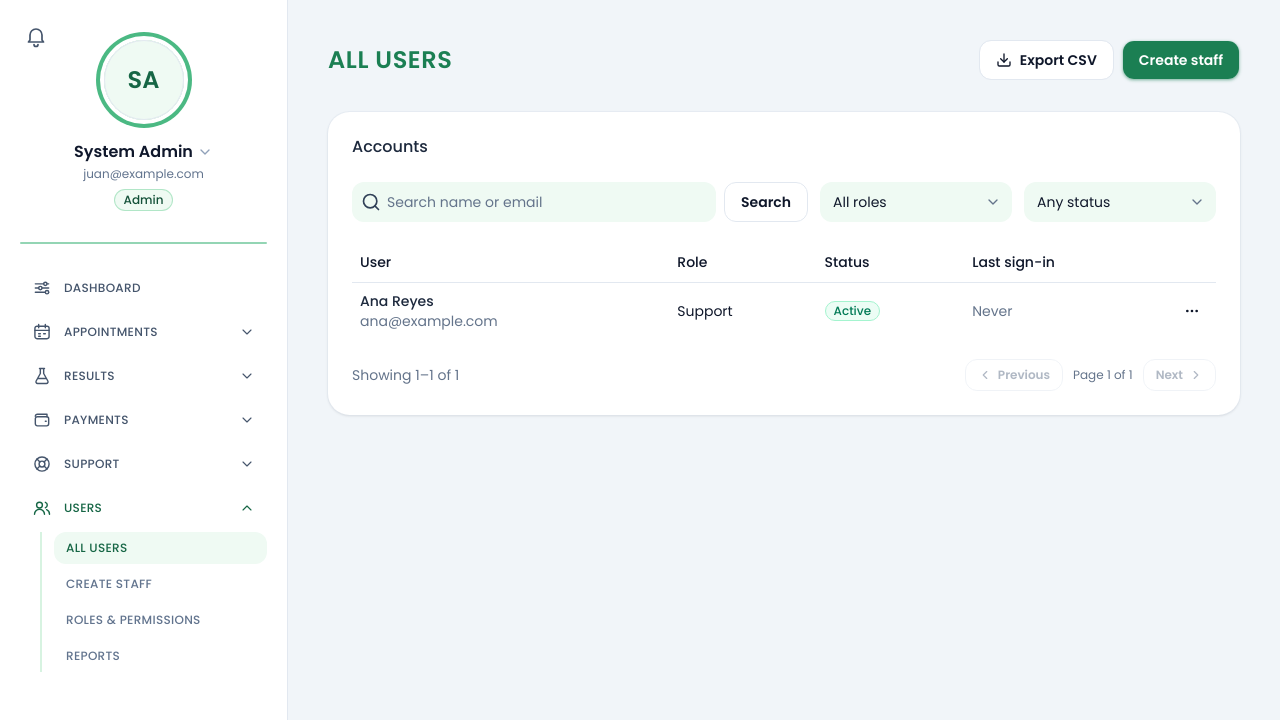
Test case: All Users admin tools › exports with the filters and edits a user, showing a taken email inline
The width and height of the screenshot is (1280, 720).
Click the button named "Actions for Ana Reyes". click: (1192, 310)
box: [1176,294,1208,326]
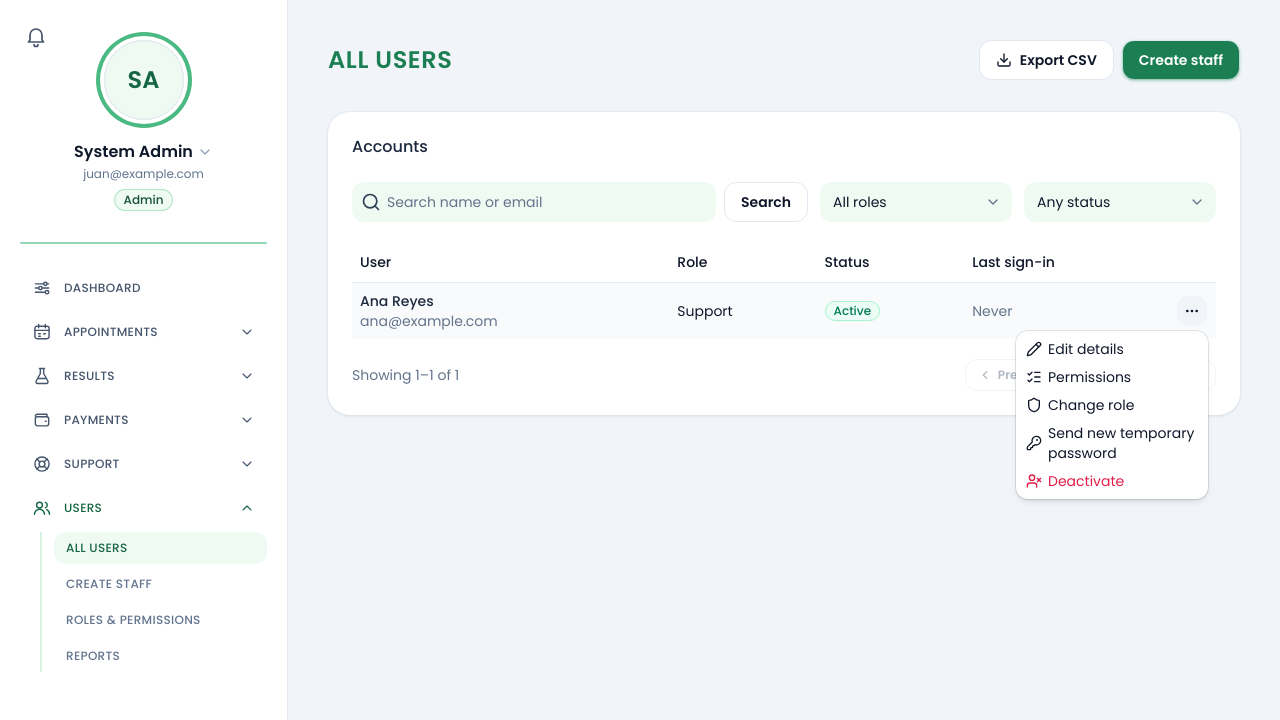
Click the menu item "Edit details". click: (1075, 349)
box: [1026,339,1124,359]
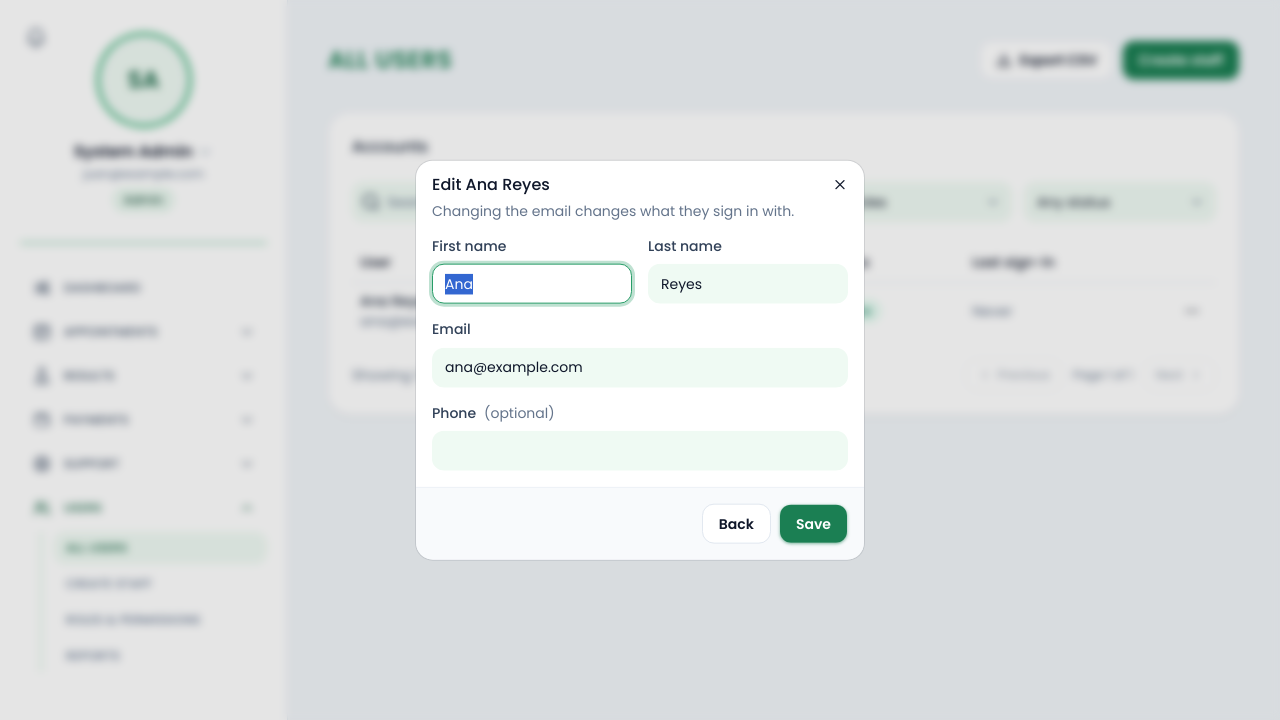
Replace the text in the field labelled "Email" with "taken@example.com". click: (640, 367)
box: [432,347,848,387]
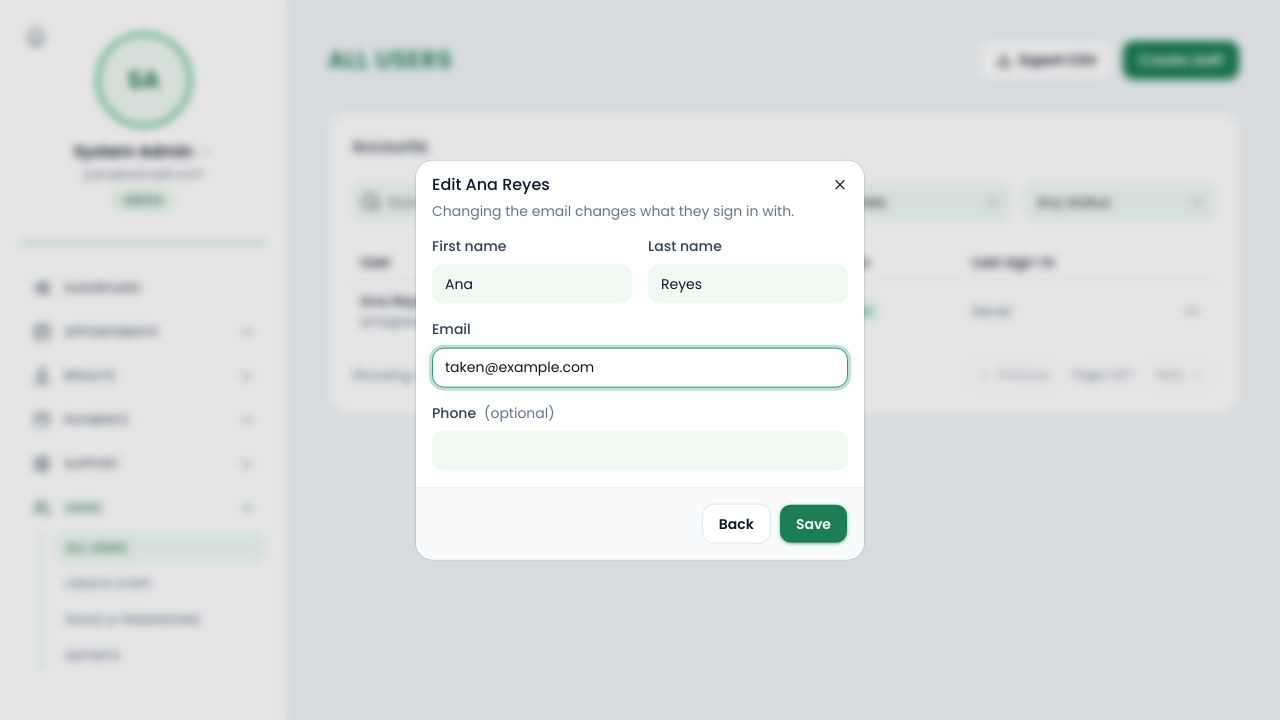
Click the button "Save". click: (814, 523)
box: [779,503,848,543]
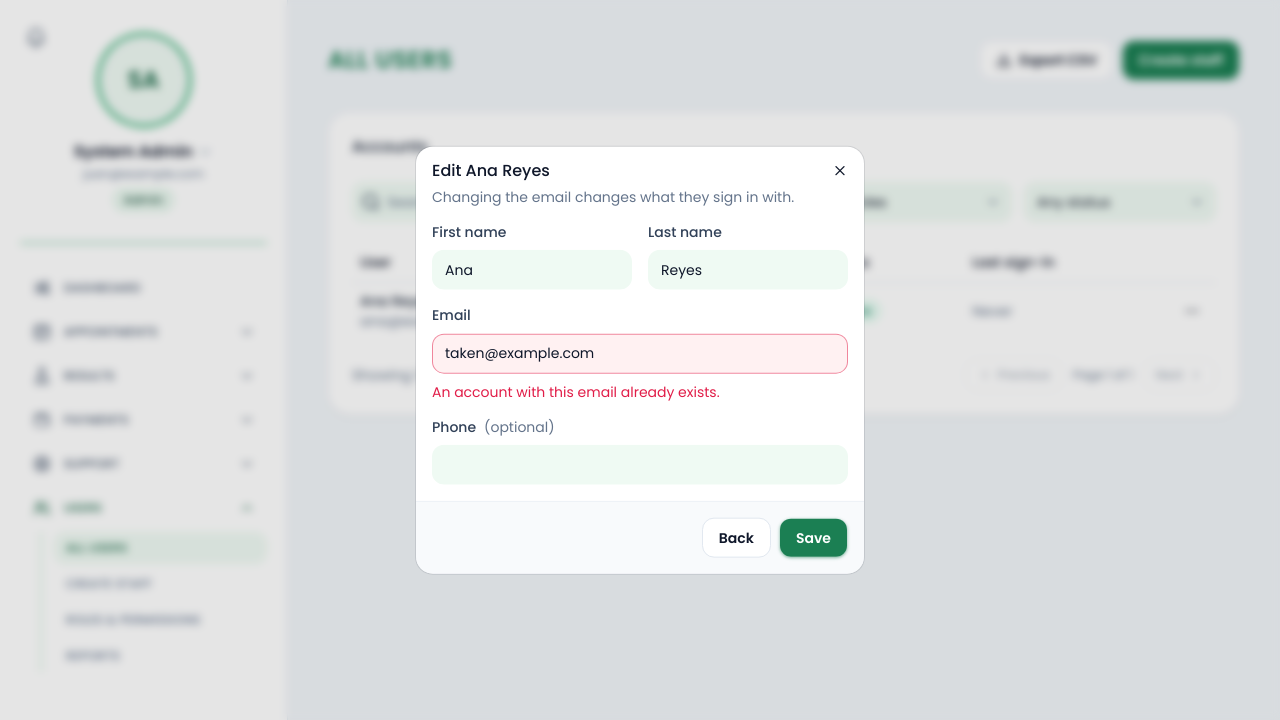
Expected: the text "An account with this email already exists." is shown, [432,381,720,401]
Replace the text in the field labelled "Email" with "ana.reyes@example.com". click: (640, 353)
box: [432,333,848,373]
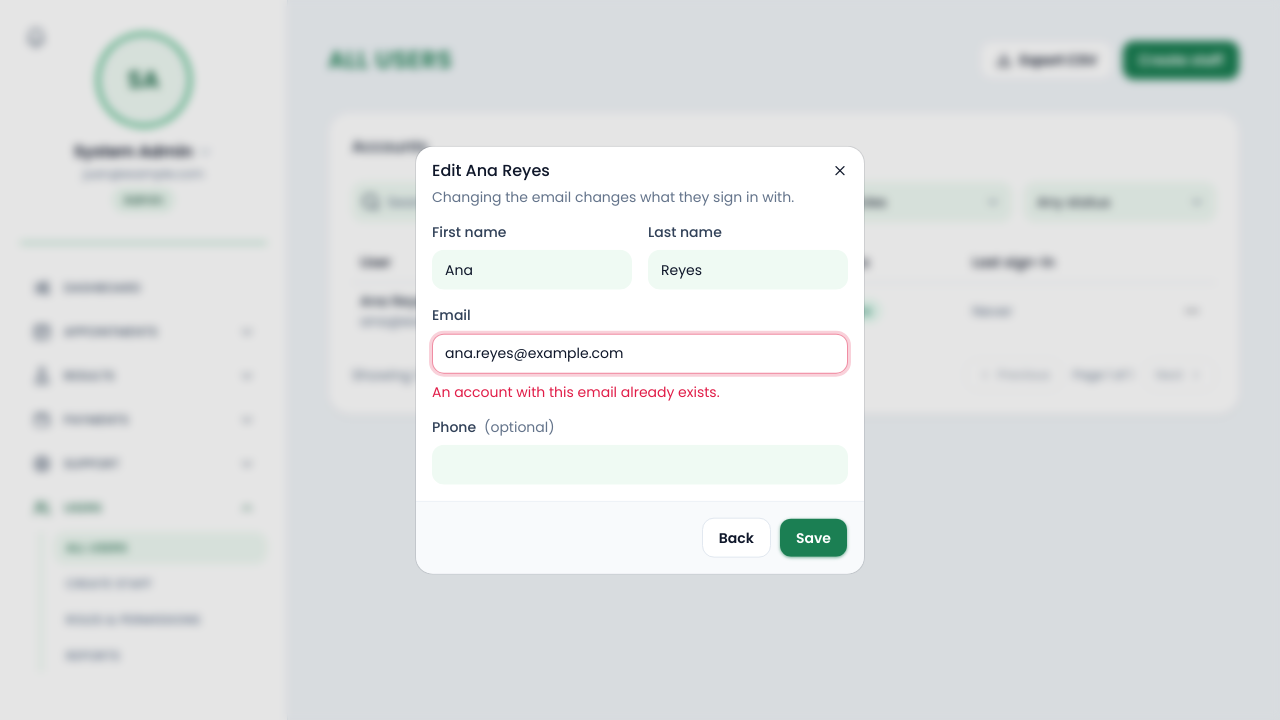
Click the button "Save". click: (814, 537)
box: [779,517,848,557]
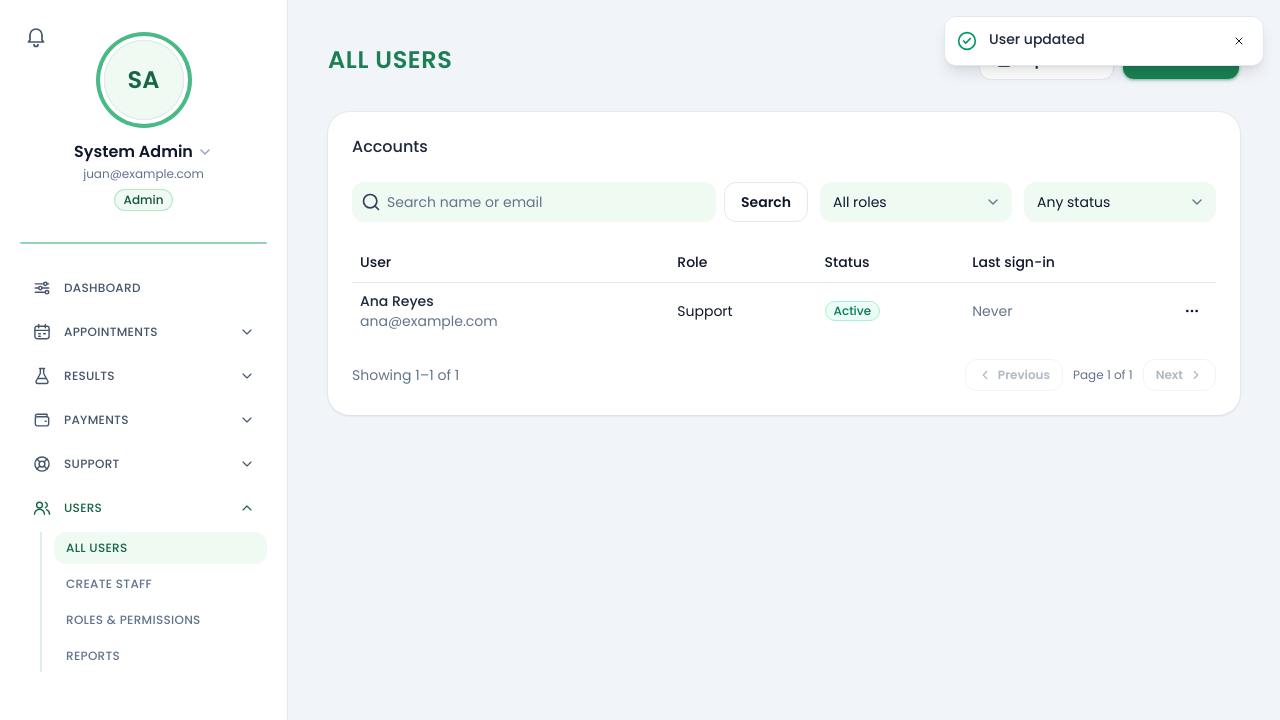
Expected: the text "User updated" is shown, [989,29,1085,49]
